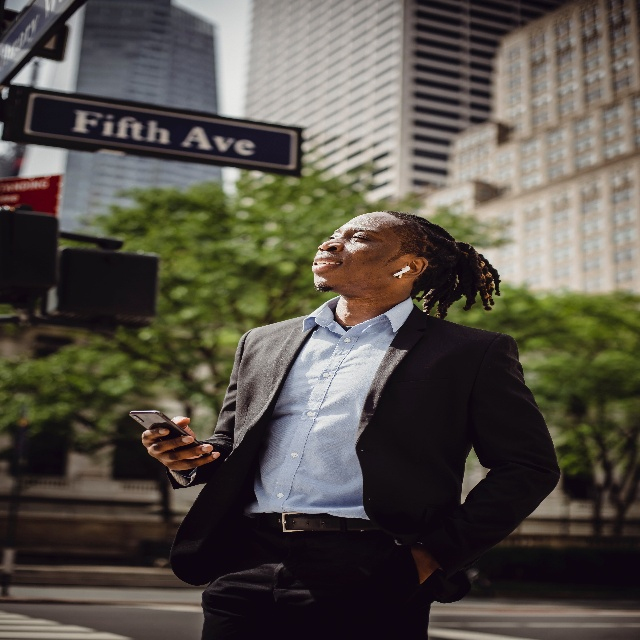Sin_guantes: (141, 415, 220, 473), (411, 542, 440, 580)
